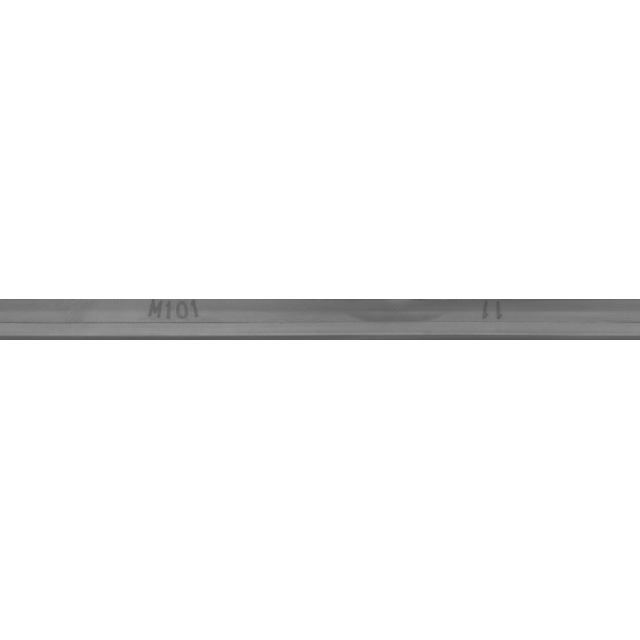mohao: (77, 270, 277, 370)
xuehao: (390, 270, 590, 370)
